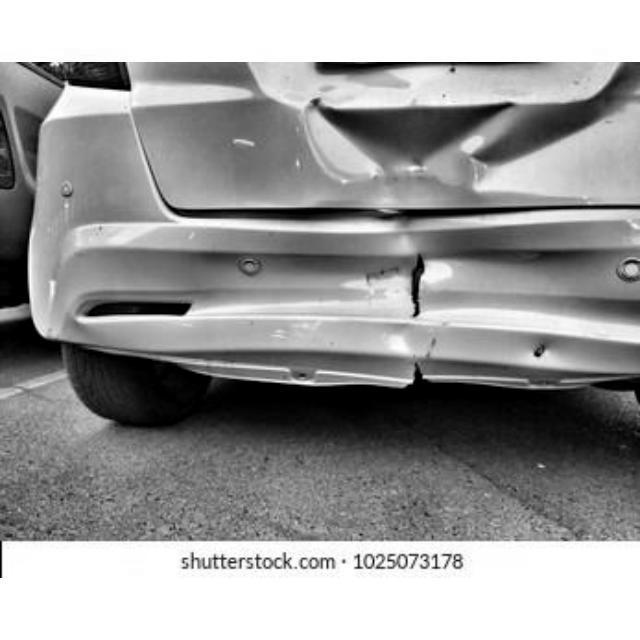rear-bumper-dent: (15, 190, 638, 396)
